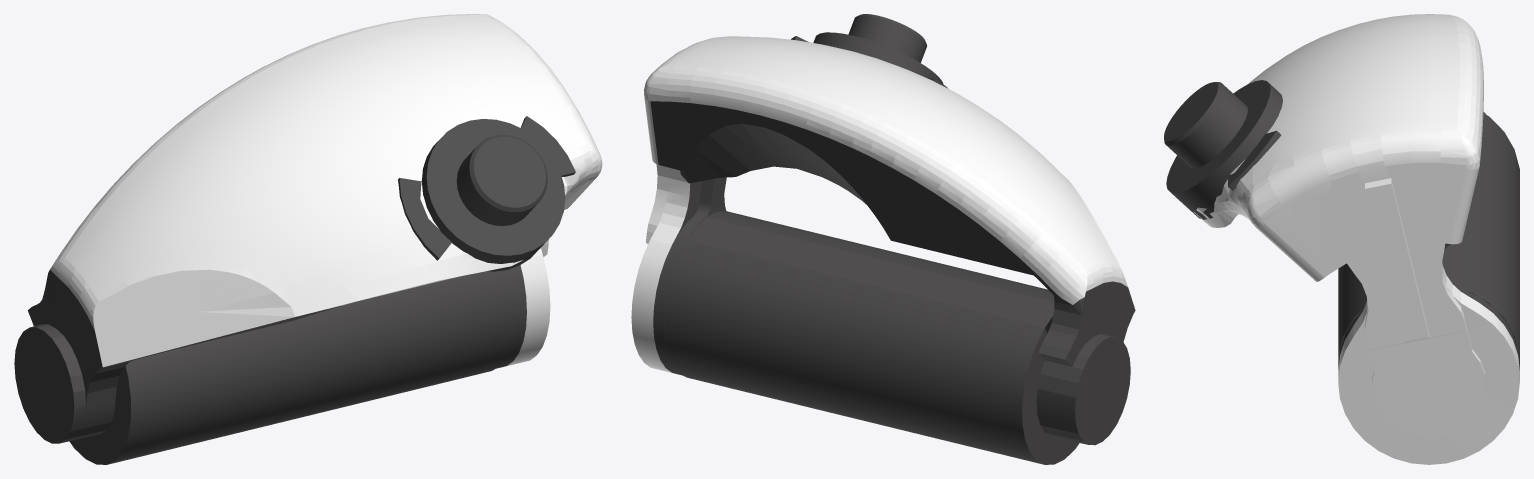
File: LHipYawPitch.dae
3 renders of one model, left to right at view 1: azimuth 30°, elevation 25°; view 2: azimuth 150°, elevation 25°; view 3: azimuth 270°, elevation 25°, orthographic. The views are drawn at different scales.
Visible parts, largest first — view 1: LHipYawPitch; view 2: LHipYawPitch; view 3: LHipYawPitch.
Part boxes in pixels (bbox=[...]): LHipYawPitch: bbox=[14, 14, 602, 464]; LHipYawPitch: bbox=[631, 14, 1135, 464]; LHipYawPitch: bbox=[1164, 14, 1519, 464].
Bounding box in the file's own units: 0.0828 × 0.053 × 0.0567.
